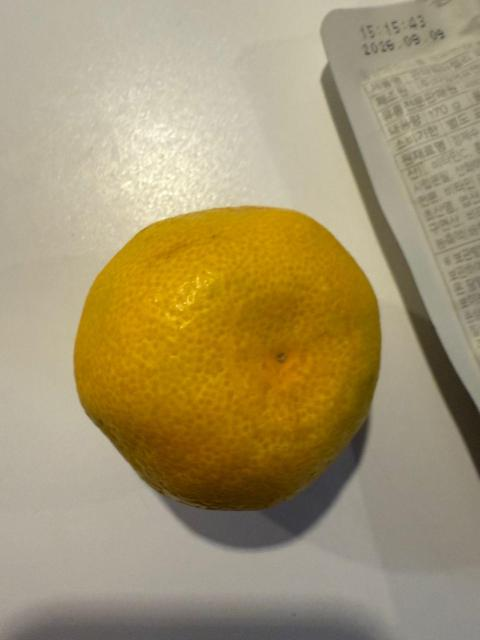Organik: (69, 205, 385, 512)
Plastik: (376, 0, 480, 442)
